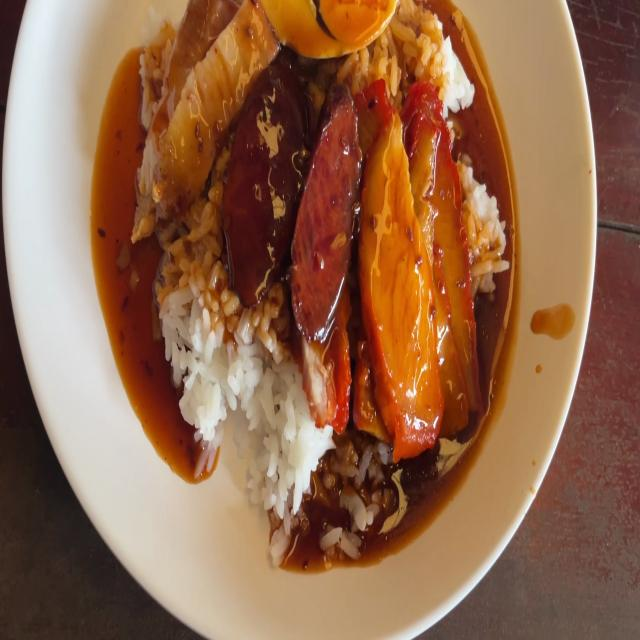red_pork_and_crispy_pork: (251, 0, 397, 57)
stir_fried_basil: (226, 88, 364, 302), (293, 93, 364, 323), (232, 79, 302, 295)
